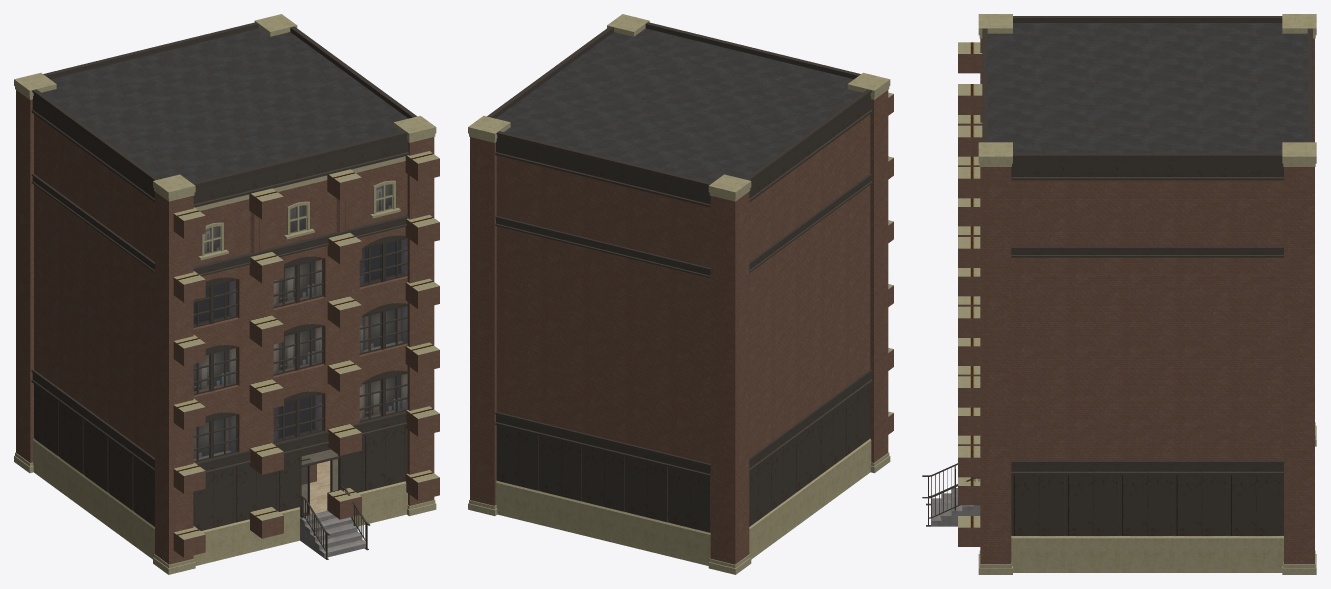
The model's file is Building_Small_1_destructible.gltf.
The picture shows the model from 3 angles, left to right: view 1: azimuth 30°, elevation 25°; view 2: azimuth 150°, elevation 25°; view 3: azimuth 270°, elevation 25°; orthographic projection. The views are drawn at different scales.
Parts seen in each view (by area): view 1: block_f0_r3_c2, block_f5_r3_c1, block_f5_r3_c2, block_f5_r0_c0, block_f1_r3_c1, block_f2_r3_c1, block_f3_r3_c1, block_f4_r3_c1, block_f0_r3_c1, block_f2_r3_c2, block_f4_r3_c2, block_f3_r3_c2 (+40 smaller); view 2: block_f5_r0_c1, block_f5_r0_c2, block_f5_r0_c0, block_f0_r0_c0, block_f1_r0_c0, block_f4_r0_c0, block_f2_r0_c0, block_f3_r0_c0, block_f5_r0_c3, block_f0_r0_c1, block_f0_r0_c2, block_f2_r0_c1 (+39 smaller); view 3: block_f5_r1_c3, block_f5_r2_c3, block_f5_r0_c3, block_f3_r1_c3, block_f3_r2_c3, block_f0_r1_c3, block_f0_r2_c3, block_f1_r1_c3, block_f1_r2_c3, block_f2_r1_c3, block_f2_r2_c3, block_f4_r1_c3 (+29 smaller).
Part boxes in pixels (x1,y1,x2,y2): block_f0_r3_c2: (299, 457, 377, 559); block_f5_r3_c1: (205, 150, 300, 239); block_f5_r3_c2: (283, 131, 378, 220); block_f5_r0_c0: (14, 67, 114, 174); block_f1_r3_c1: (219, 412, 300, 495); block_f2_r3_c1: (219, 348, 299, 430); block_f3_r3_c1: (219, 284, 299, 366); block_f4_r3_c1: (219, 220, 300, 302); block_f0_r3_c1: (221, 476, 299, 559); block_f2_r3_c2: (298, 328, 377, 411); block_f4_r3_c2: (298, 202, 378, 283); block_f3_r3_c2: (298, 264, 377, 347); block_f5_r0_c1: (603, 131, 724, 240); block_f5_r0_c2: (525, 112, 646, 221); block_f5_r0_c0: (681, 150, 777, 255); block_f0_r0_c0: (682, 477, 776, 574); block_f1_r0_c0: (681, 413, 777, 510); block_f4_r0_c0: (681, 222, 777, 318); block_f2_r0_c0: (682, 350, 775, 446); block_f3_r0_c0: (682, 286, 775, 382); block_f5_r0_c3: (468, 95, 568, 202); block_f0_r0_c1: (604, 477, 682, 559); block_f0_r0_c2: (526, 458, 604, 540); block_f2_r0_c1: (604, 349, 682, 431); block_f5_r1_c3: (1119, 132, 1217, 223); block_f5_r2_c3: (1021, 132, 1119, 223); block_f5_r0_c3: (1218, 127, 1316, 225); block_f3_r1_c3: (1119, 293, 1217, 363); block_f3_r2_c3: (1021, 293, 1119, 363); block_f0_r1_c3: (1119, 502, 1217, 572); block_f0_r2_c3: (1021, 502, 1119, 572); block_f1_r1_c3: (1119, 433, 1217, 502); block_f1_r2_c3: (1021, 433, 1119, 502); block_f2_r1_c3: (1119, 363, 1217, 432); block_f2_r2_c3: (1021, 363, 1119, 432); block_f4_r1_c3: (1119, 224, 1217, 293).
Size of the model in its own units: 7.29 by 9.96 by 8.5.
13 materials, 12 textured.
